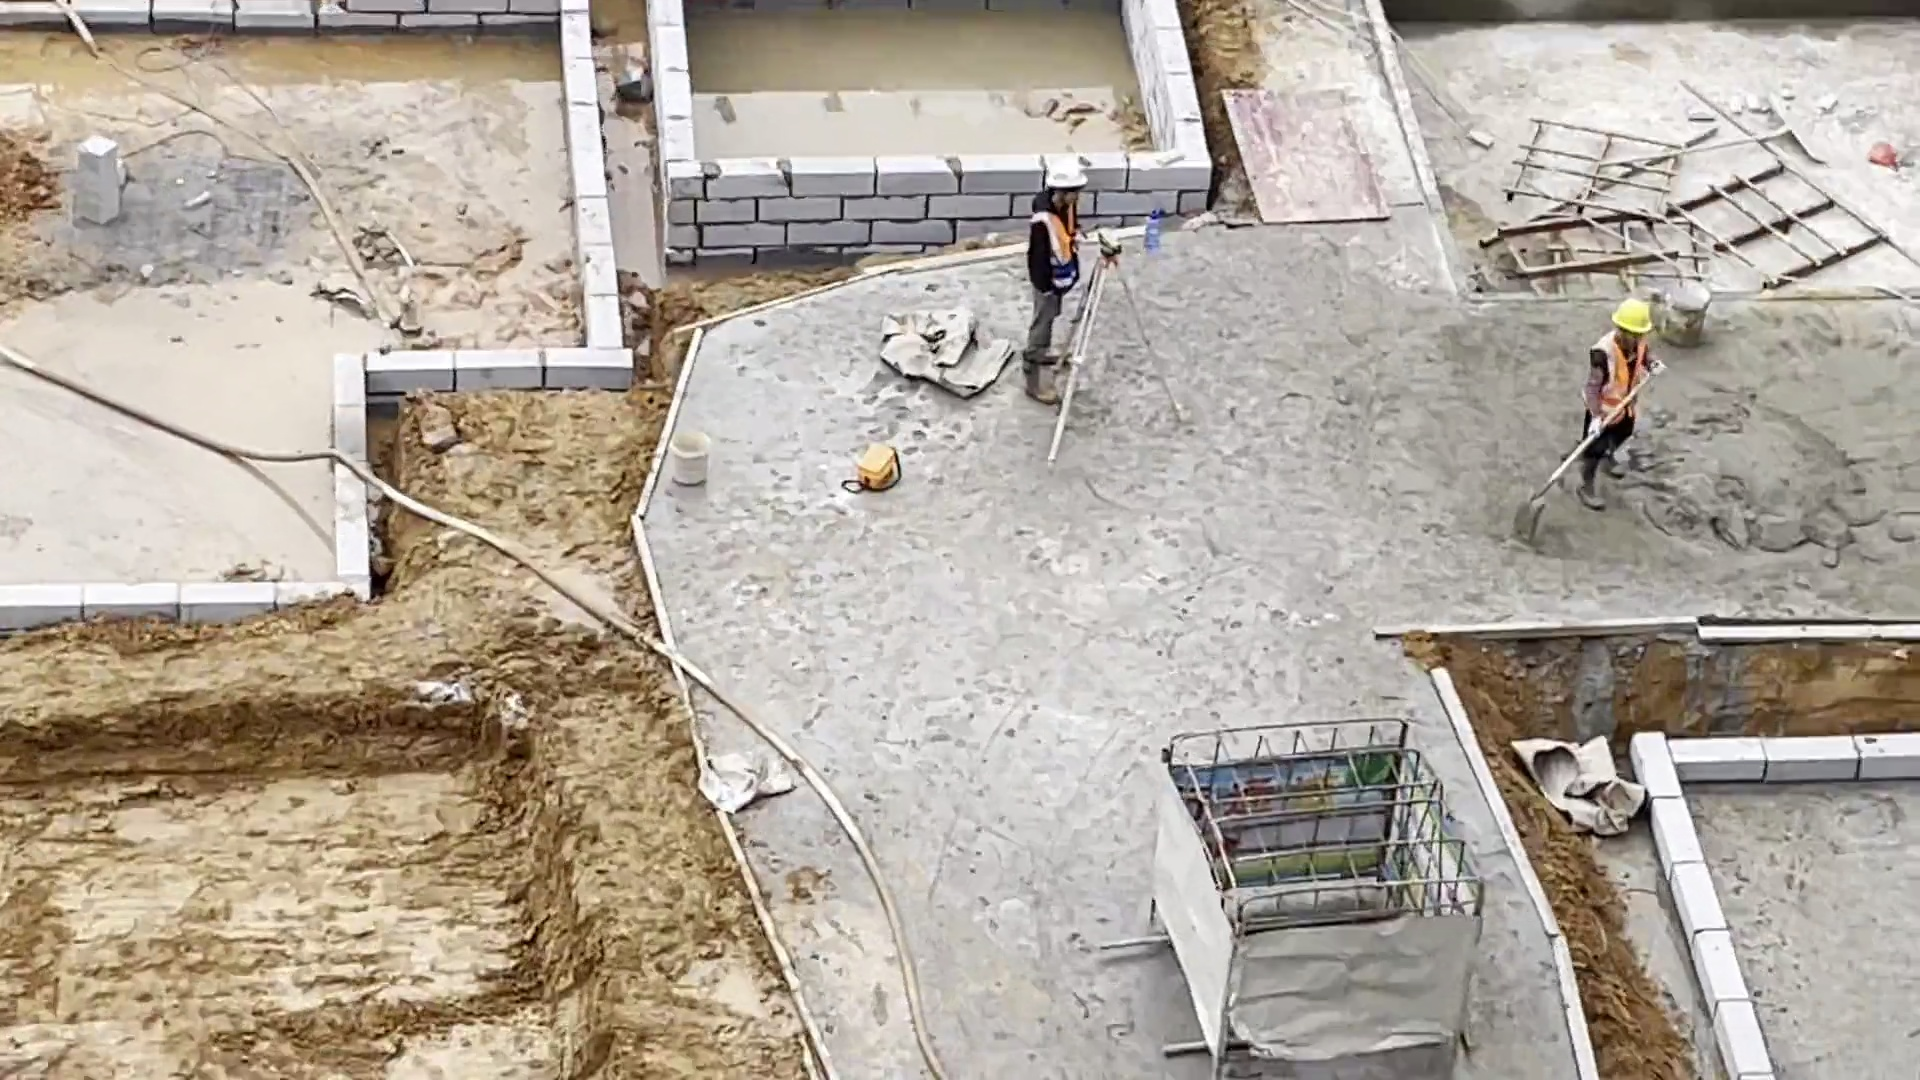helmet: (1605, 290, 1660, 339), (1041, 153, 1094, 192)
person: (1578, 288, 1655, 517), (1022, 157, 1088, 414)
vest: (1599, 341, 1644, 442), (1029, 214, 1086, 289)
